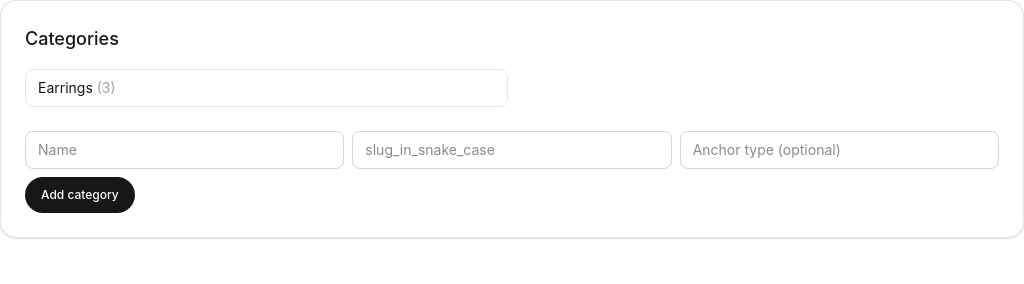
it: CategoryManager › submits a new category and shows the real validation error on failure
The width and height of the screenshot is (1024, 284).
Check: the text "Earrings (3)" is shown, box [38,78,116,98]
Type "Earrings" into the field with placeholder "Name" at (185,150), box [25,131,344,169]
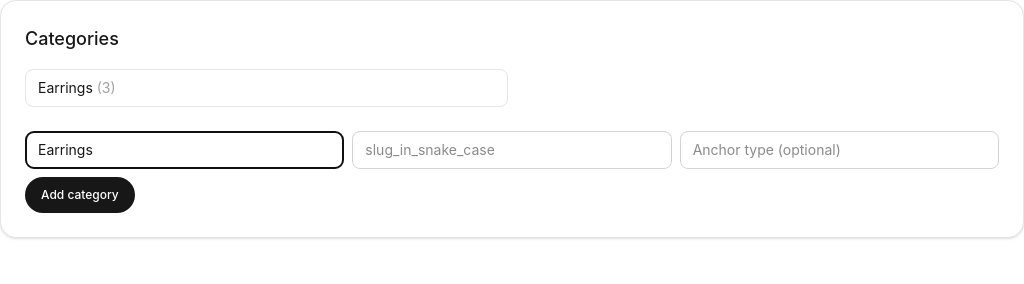
Type "earrings" into the field with placeholder "slug_in_snake_case" at (512,150), box [352,131,672,169]
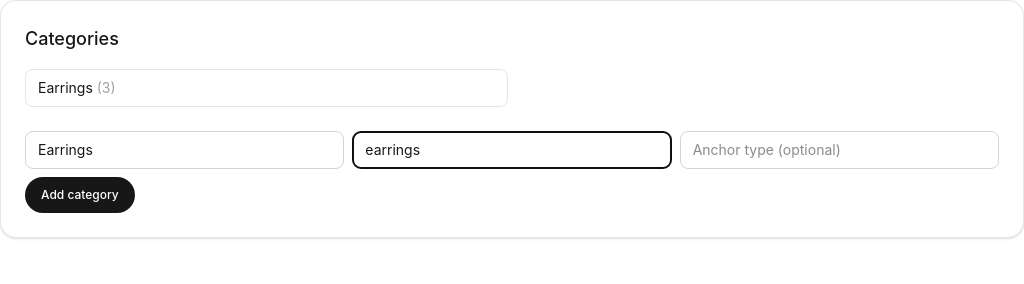
Click the button "Add category" at (80,195), box [25,177,135,213]
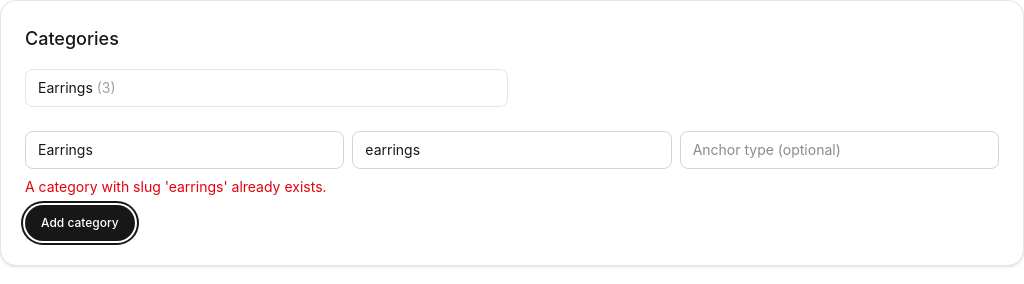
Check: the message shows "already exists", box [25,178,327,195]
